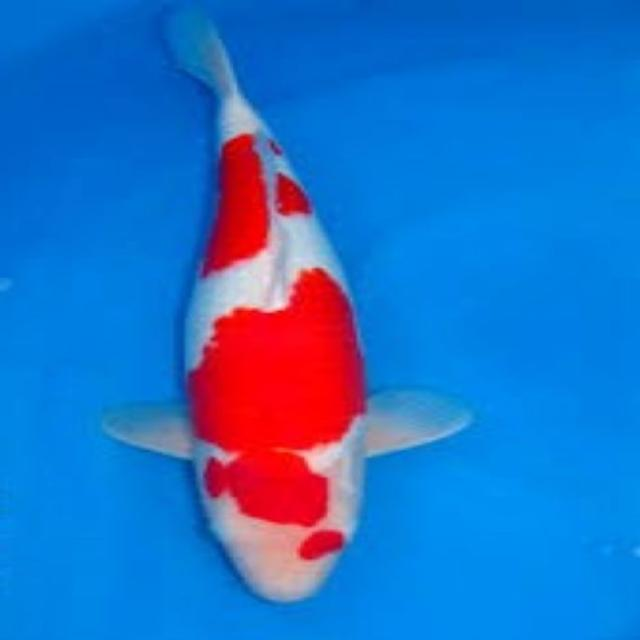Kohaku: (99, 0, 474, 604)
